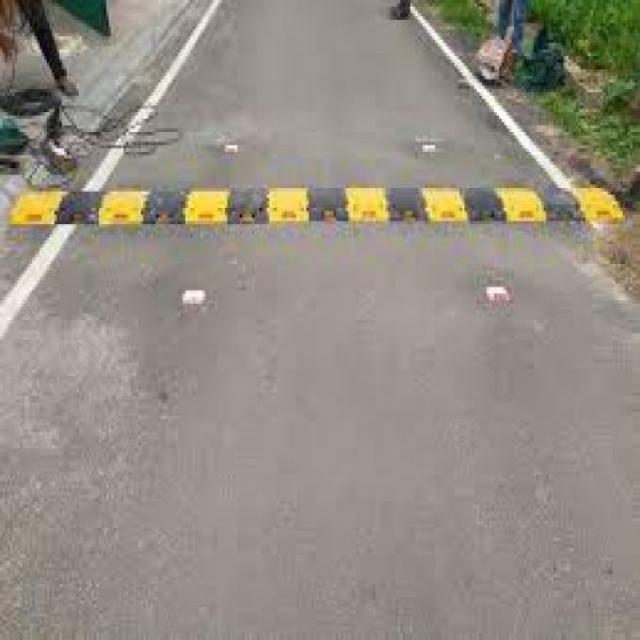Marked Bump: (9, 176, 604, 236)
